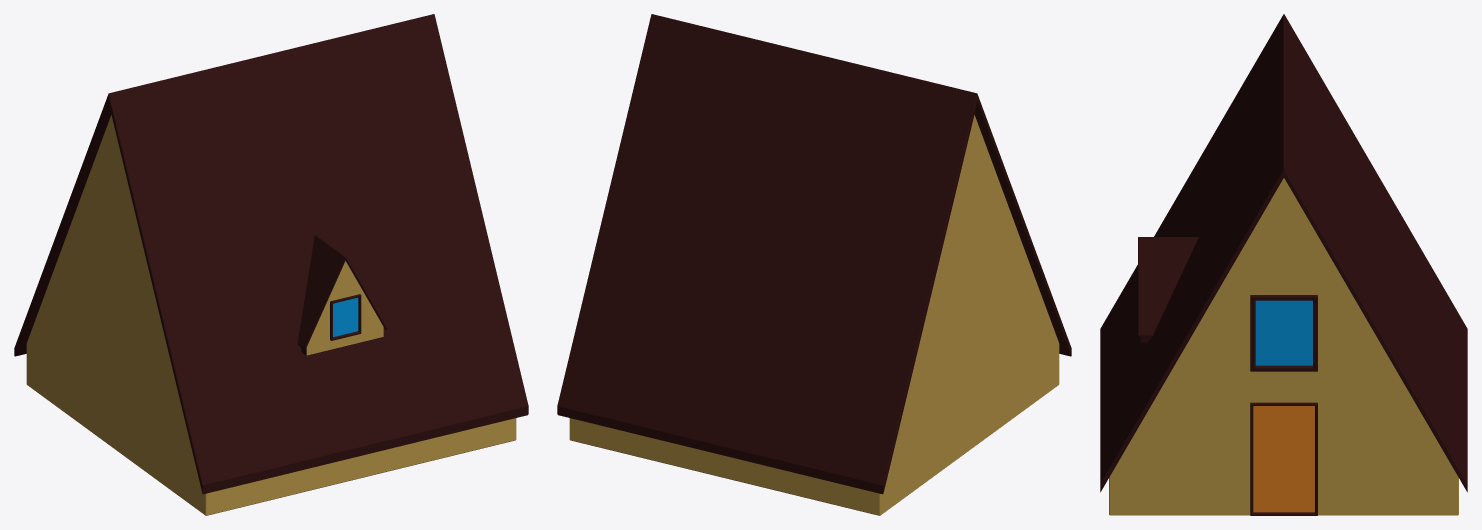
File: house2 (1).fbx
3 views of the same model, side by side, from view 1: azimuth 30°, elevation 25°; view 2: azimuth 150°, elevation 25°; view 3: azimuth 270°, elevation 25° (orthographic). The views are drawn at different scales.
Parts seen in each view (by area): view 1: Cube.001; view 2: Cube.001; view 3: Cube.001.
Part boxes in pixels (x1,y1,x2,y2): Cube.001: (14, 14, 528, 515); Cube.001: (557, 14, 1071, 515); Cube.001: (1100, 14, 1467, 515).
Bounding box in the file's own units: 164 × 173 × 164.
